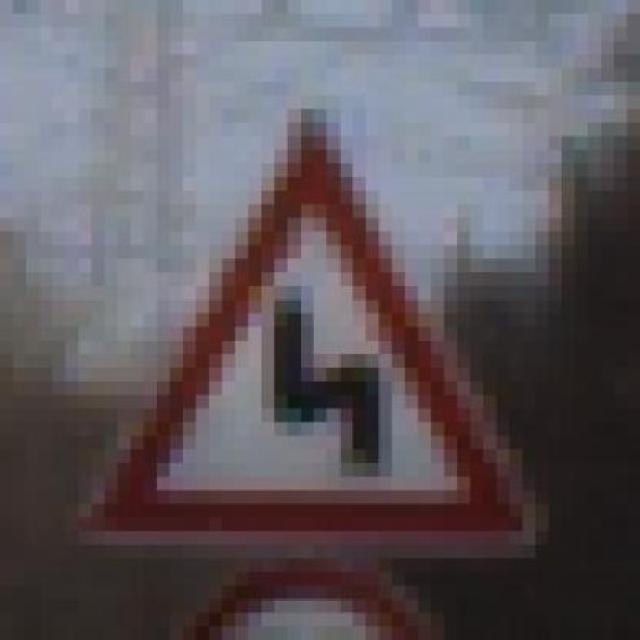Left Zig Zag Traffic: (66, 96, 548, 558)
